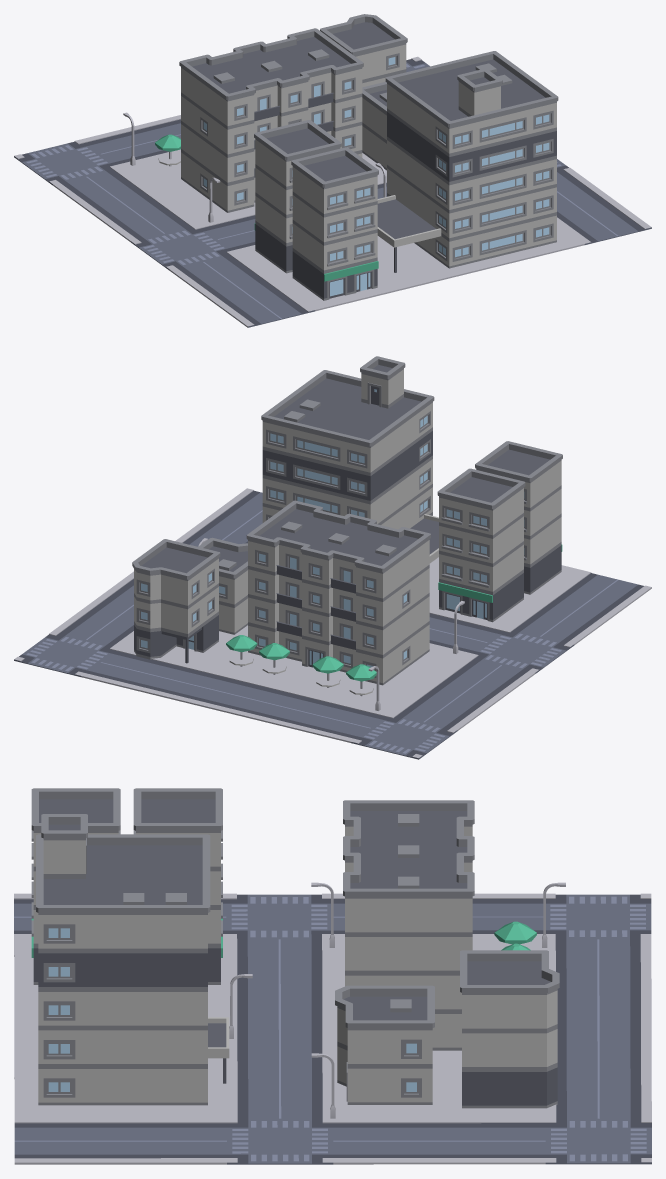
Rendered from city_block4.fbx.
The picture shows the model from 3 angles, top to bottom: view 1: azimuth 30°, elevation 25°; view 2: azimuth 150°, elevation 25°; view 3: azimuth 270°, elevation 25°; orthographic projection. The views are drawn at different scales.
Visible parts, largest first — view 1: large_buildingG, large_buildingA, large_buildingB__1_, large_buildingB, small_buildingC, road_straight__5_, road_straight__4_, road_straight__7_, road_straight__6_, road_crossroadPath, road_crossroadPath__2_, road_straight__15_ (+13 smaller); view 2: large_buildingA, large_buildingG, large_buildingB, small_buildingC, large_buildingB__1_, small_buildingB, road_straight__9_, road_straight__10_, road_crossroadPath__2_, road_straight__8_, road_straight__5_, road_straight__7_ (+20 smaller); view 3: large_buildingG, large_buildingA, small_buildingC, small_buildingB, large_buildingB, road_straight__13_, road_straight__12_, road_straight__14_, road_crossroadPath__3_, road_crossroadPath__1_, road_straight__15_, road_crossroadPath__2_ (+23 smaller).
Boxes of the visible parts, <box> form: large_buildingG: <box>377,51,558,272</box>; large_buildingA: <box>179,28,363,212</box>; large_buildingB__1_: <box>291,147,378,300</box>; large_buildingB: <box>254,120,341,273</box>; small_buildingC: <box>320,14,407,87</box>; road_straight__5_: <box>209,281,315,327</box>; road_straight__4_: <box>170,253,275,299</box>; road_straight__7_: <box>53,168,158,213</box>; road_straight__6_: <box>92,196,197,242</box>; road_crossroadPath: <box>131,224,236,270</box>; road_crossroadPath__2_: <box>14,139,119,185</box>; road_straight__15_: <box>557,199,651,244</box>; large_buildingA: <box>246,500,430,685</box>; large_buildingG: <box>261,356,438,563</box>; large_buildingB: <box>437,468,525,622</box>; small_buildingC: <box>132,539,220,663</box>; large_buildingB__1_: <box>475,441,562,594</box>; small_buildingB: <box>198,537,247,634</box>; road_straight__9_: <box>216,680,322,726</box>; road_straight__10_: <box>149,664,254,709</box>; road_crossroadPath__2_: <box>351,713,457,759</box>; road_straight__8_: <box>284,697,389,742</box>; road_straight__5_: <box>546,570,651,616</box>; road_straight__7_: <box>390,685,496,730</box>; large_buildingG: <box>36,814,229,1105</box>; large_buildingA: <box>343,800,474,1050</box>; small_buildingC: <box>460,950,559,1108</box>; small_buildingB: <box>335,985,434,1104</box>; large_buildingB: <box>133,788,222,984</box>; road_straight__13_: <box>439,1117,545,1164</box>; road_straight__12_: <box>333,1117,439,1164</box>; road_straight__14_: <box>120,1117,226,1164</box>; road_crossroadPath__3_: <box>545,1117,651,1164</box>; road_crossroadPath__1_: <box>227,1117,333,1164</box>; road_straight__15_: <box>14,1118,120,1164</box>; road_crossroadPath__2_: <box>546,893,651,939</box>.
Size of the model in its own units: 601 by 248 by 601.
